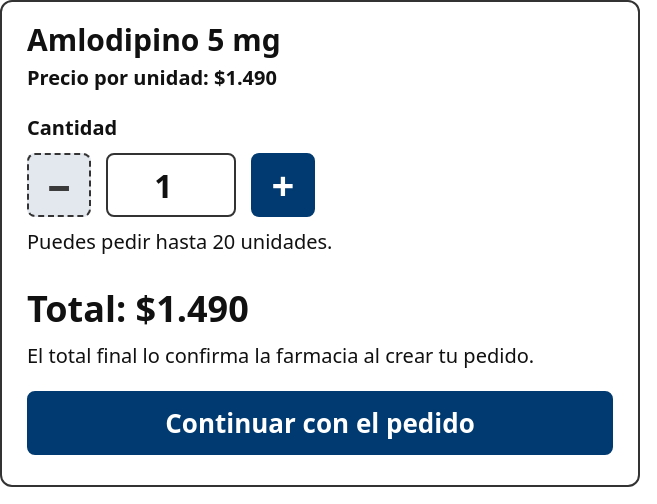
Scenario: SelectorCantidad › escenario feliz: elegir cantidad y ver el total › «+» sube la cantidad y el total se recalcula
What coordinates should you click on to do the following:
click the button named "Aumentar cantidad"
I would click on:
 (283, 185)
Its box is [251,153,315,217].
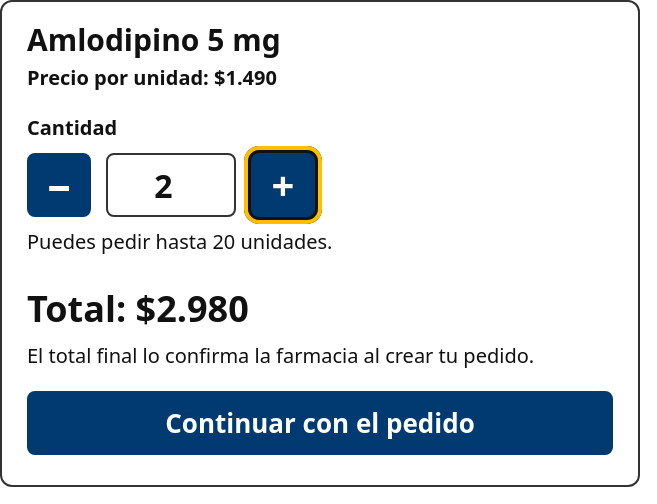
What coordinates should you click on to do the following:
click the button named "Aumentar cantidad"
I would click on:
 (283, 185)
Its box is [251,153,315,217].
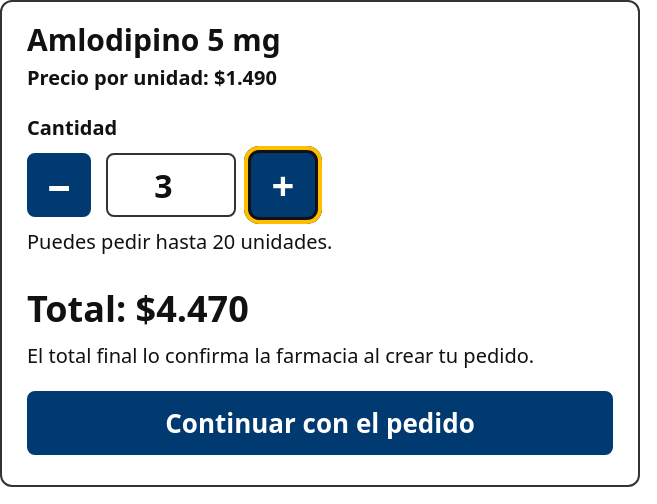
Expected: the number field labelled "Cantidad" holds "3", [106,153,236,217]
Expected: the text "Total: $4.470" is shown, [27,284,249,333]
